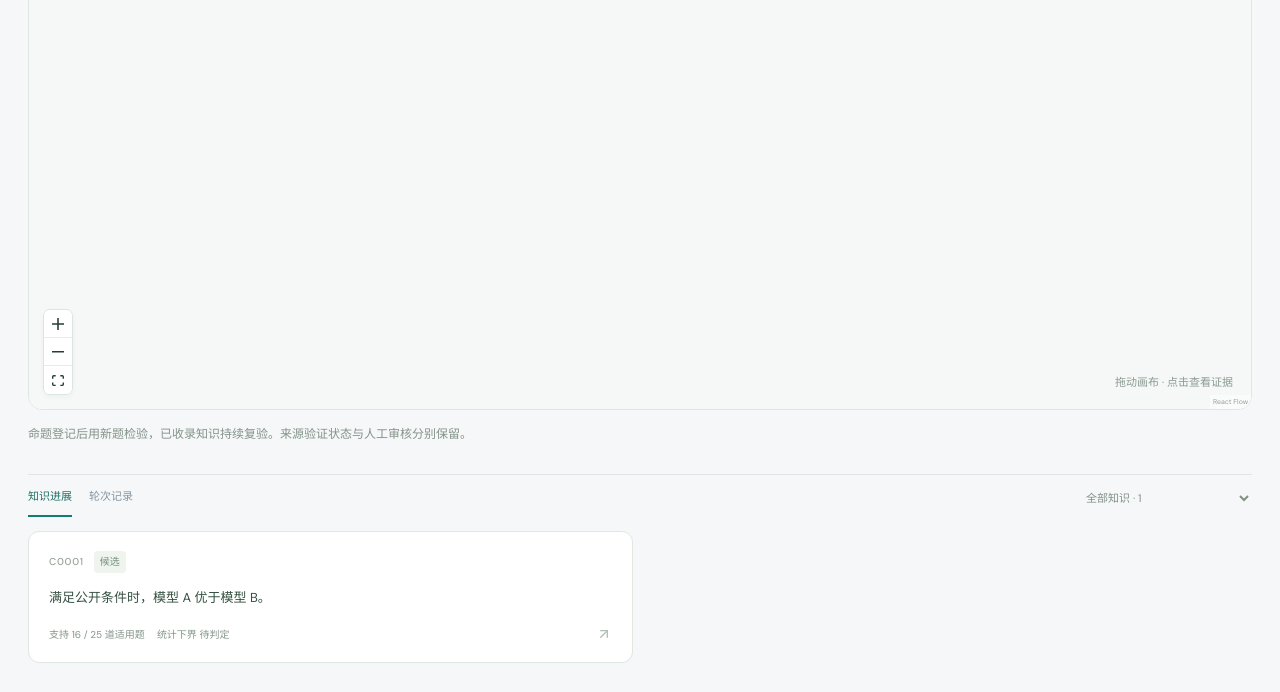
Test: reads consistency audit details separately from source validation and causal hypotheses
(page scrolled)
Click the button with aria-label "阅读命题 C0001": (66, 562) x1=28 y1=531 x2=633 y2=663
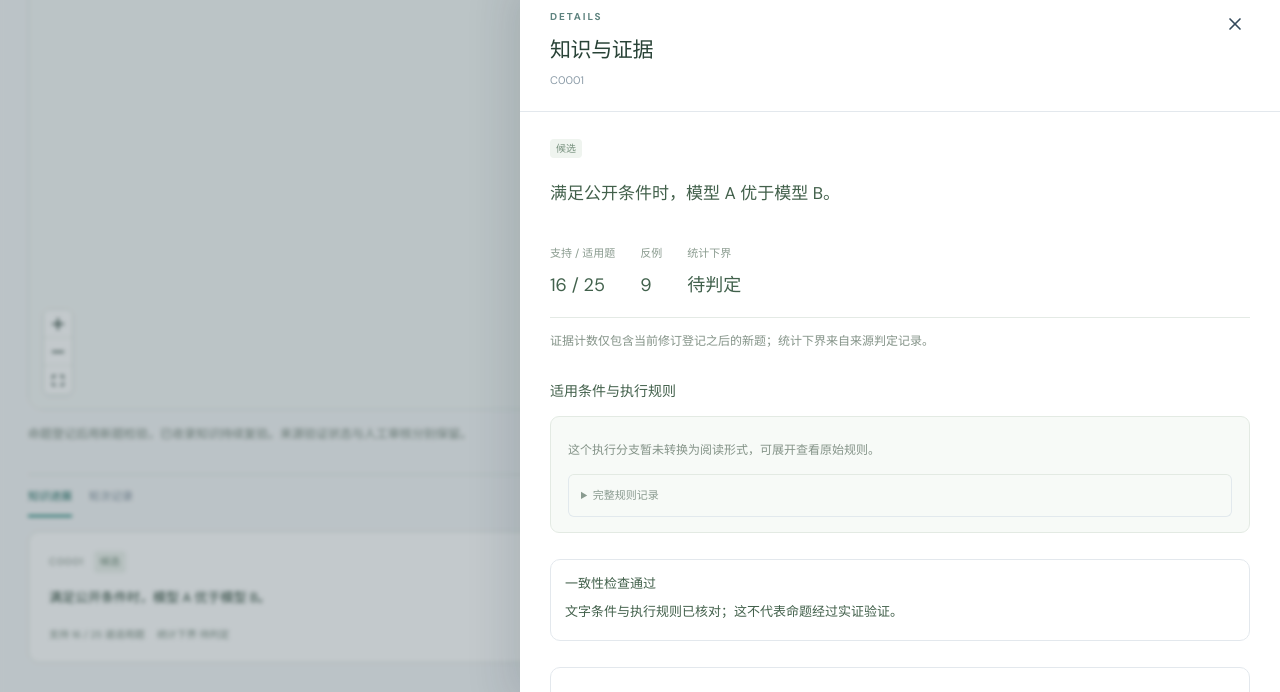
Expected: the 2nd text "满足公开条件时，模型 A 优于模型 B。" is shown, x1=49 y1=588 x2=271 y2=606
Expected: the text "一致性检查通过" is shown, x1=565 y1=575 x2=656 y2=592
Expected: the text "文字条件与执行规则已核对；这不代表命题经过实证验证。" is shown, x1=565 y1=602 x2=903 y2=620
